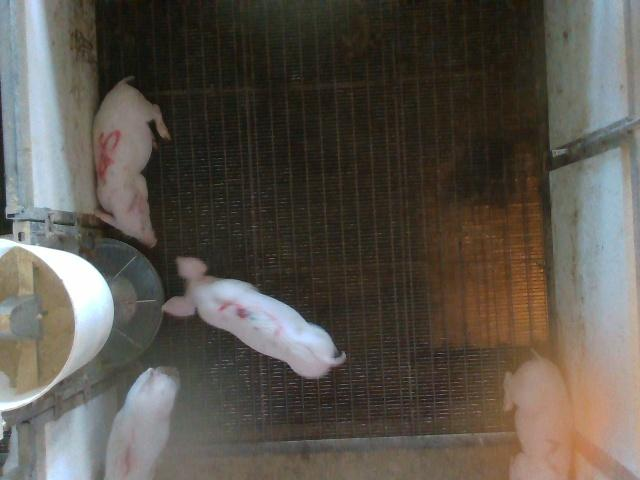pig-1: (106, 368, 180, 479)
pig-2: (504, 352, 571, 478)
pig-3: (162, 256, 346, 378)
pig-5: (94, 76, 170, 247)
